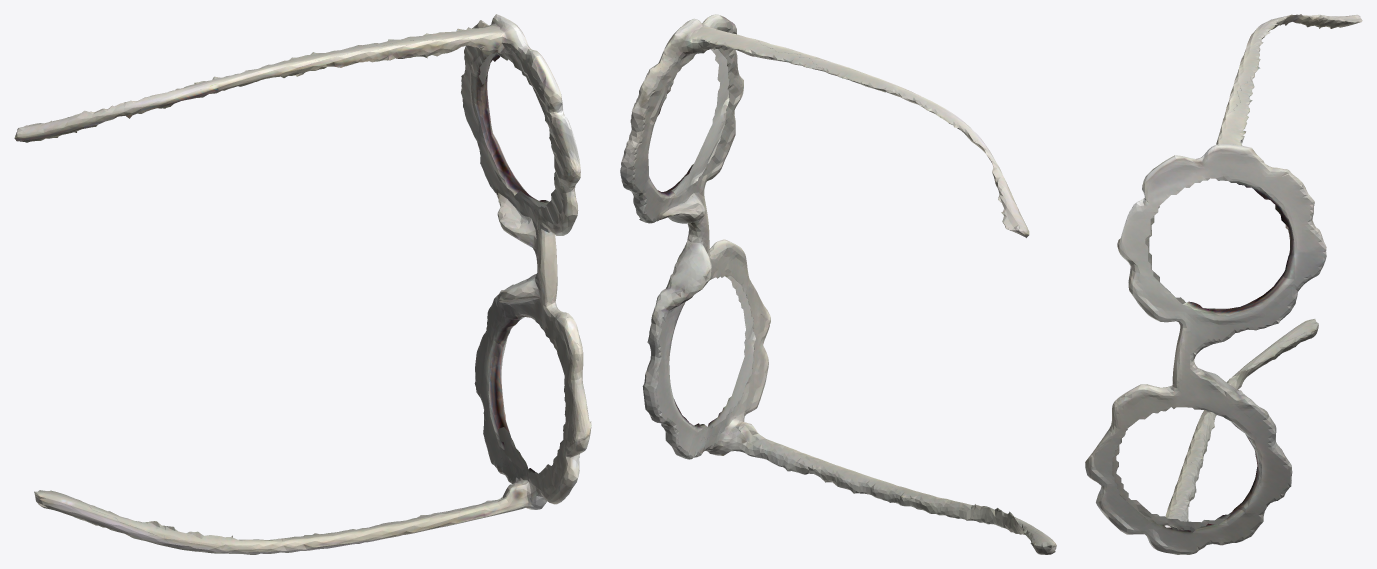
Rendered from eyeglasses1.obj.
3 renders of one model, left to right at view 1: azimuth 30°, elevation 25°; view 2: azimuth 150°, elevation 25°; view 3: azimuth 270°, elevation 25°, orthographic. The views are drawn at different scales.
Visible parts, largest first — view 1: eyeglasses1; view 2: eyeglasses1; view 3: eyeglasses1.
Boxes of the visible parts, x1=… form: eyeglasses1: x1=14, y1=14, x2=591, y2=554; eyeglasses1: x1=620, y1=14, x2=1056, y2=554; eyeglasses1: x1=1085, y1=14, x2=1362, y2=554.
Bounding box in the file's own units: 0.1263 × 0.1252 × 0.0757.
1 material, 1 textured.
